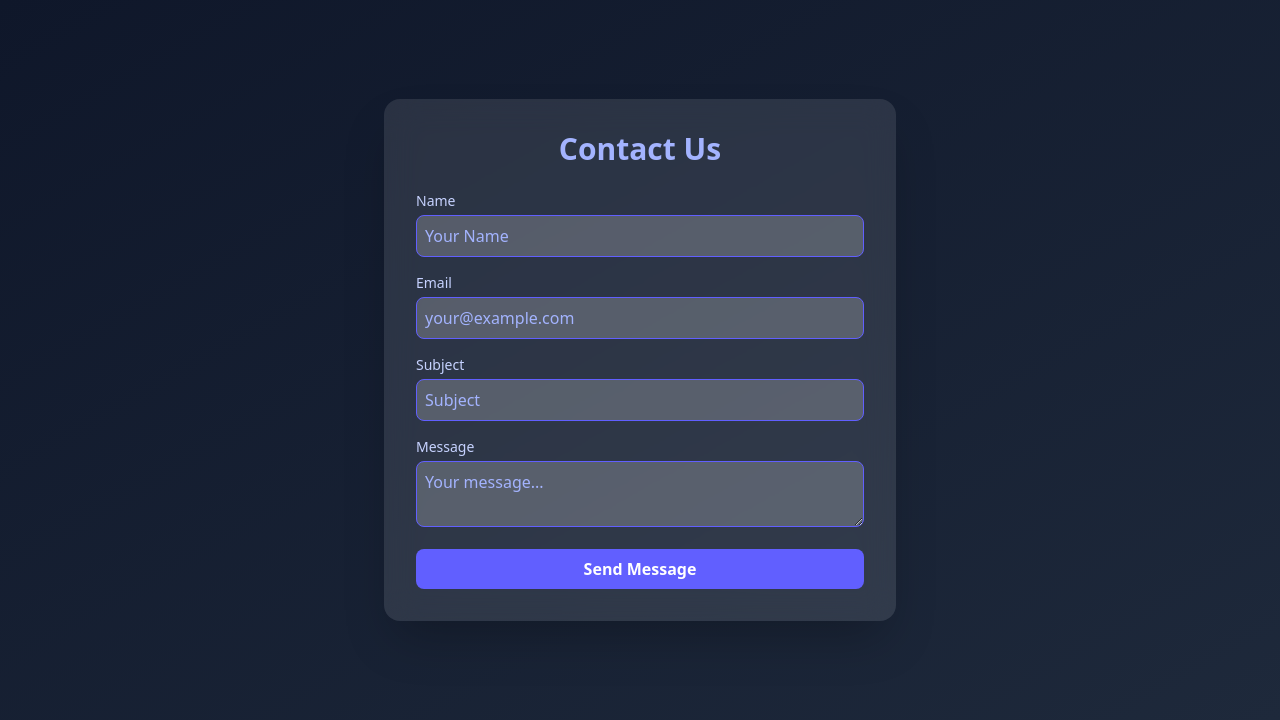
Test: Contact component › shows error message if emailjs.send fails
This screenshot has width=1280, height=720.
Type "John" into the field with placeholder "Your Name" at {"x": 640, "y": 236}, box [416,215,864,257]
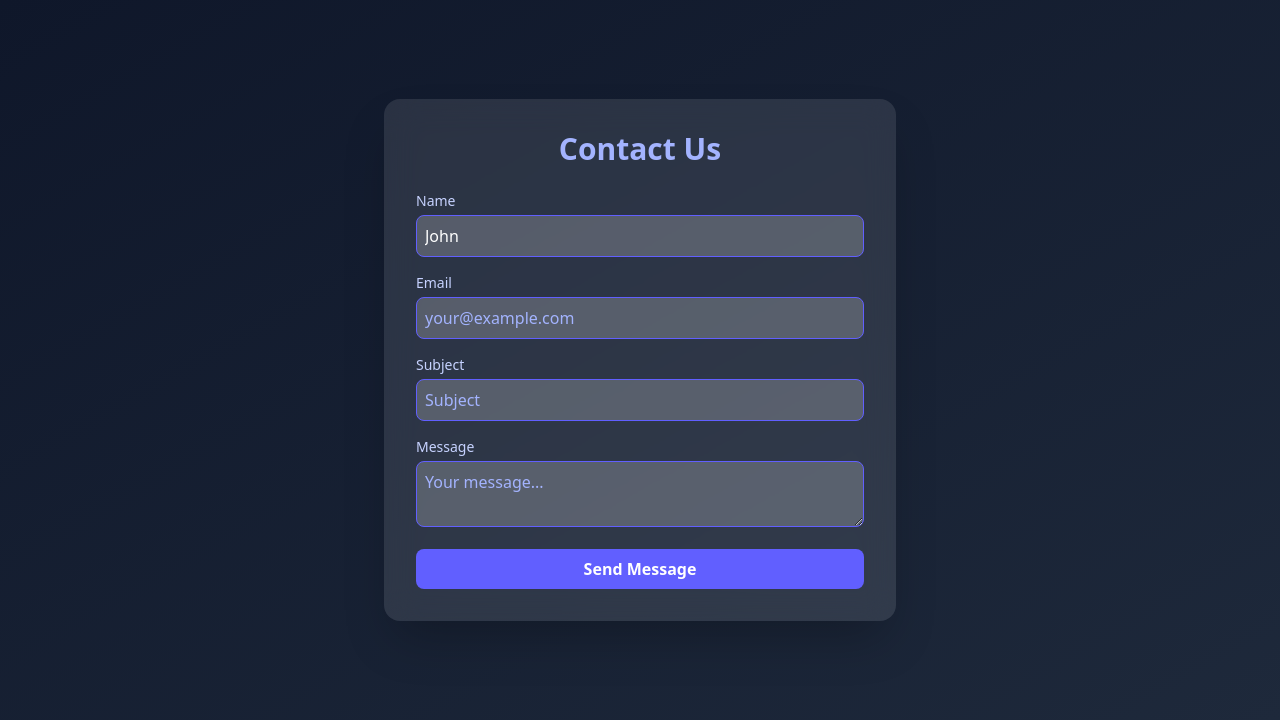
Type "john@example.com" into the field with placeholder "your@example.com" at {"x": 640, "y": 318}, box [416,297,864,339]
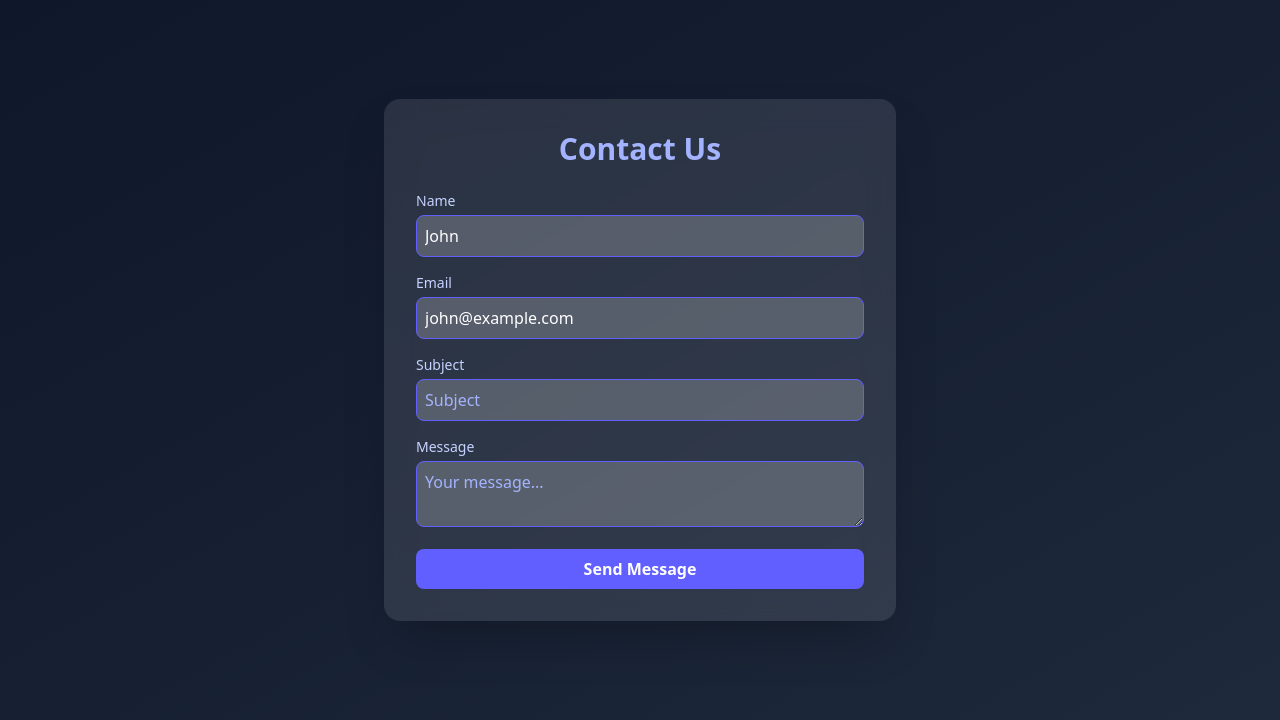
Type "Oops" into the field with placeholder "Subject" at {"x": 640, "y": 400}, box [416,379,864,421]
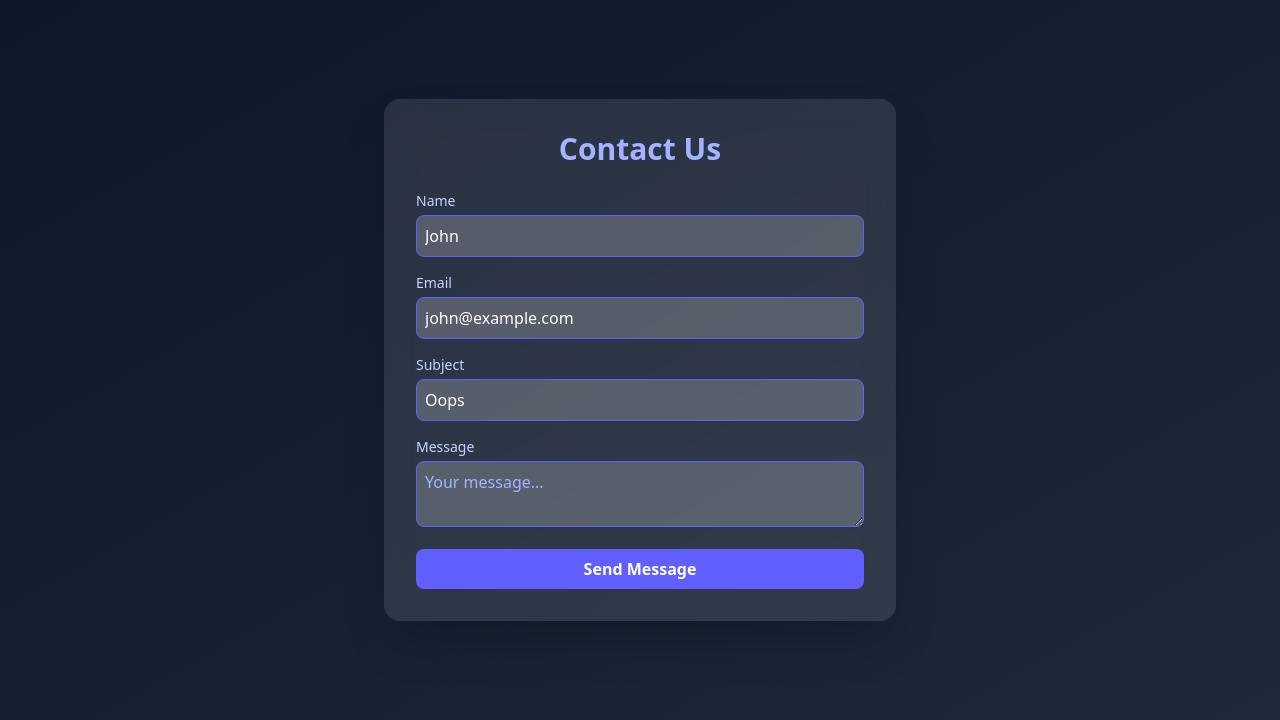
Type "Something went wrong" into the text box with placeholder "Your message..." at {"x": 640, "y": 494}, box [416,461,864,527]
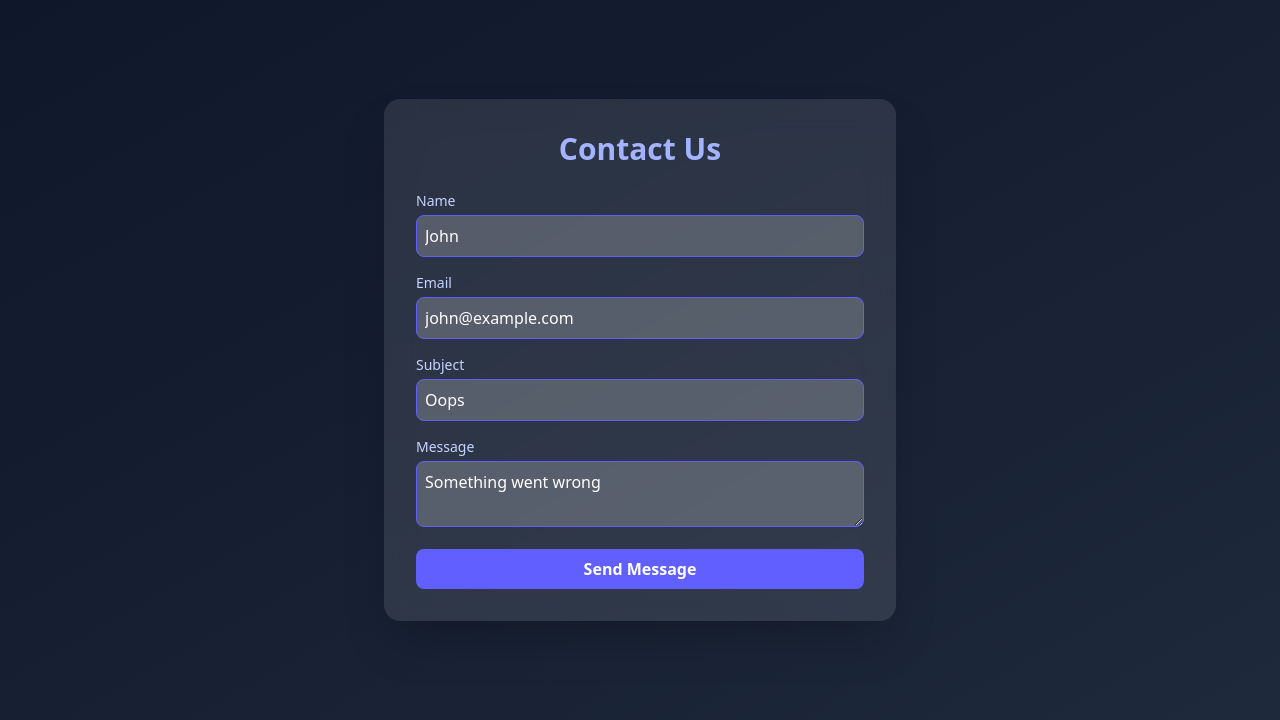
Click the button "Send Message" at {"x": 640, "y": 569}, box [416,549,864,589]
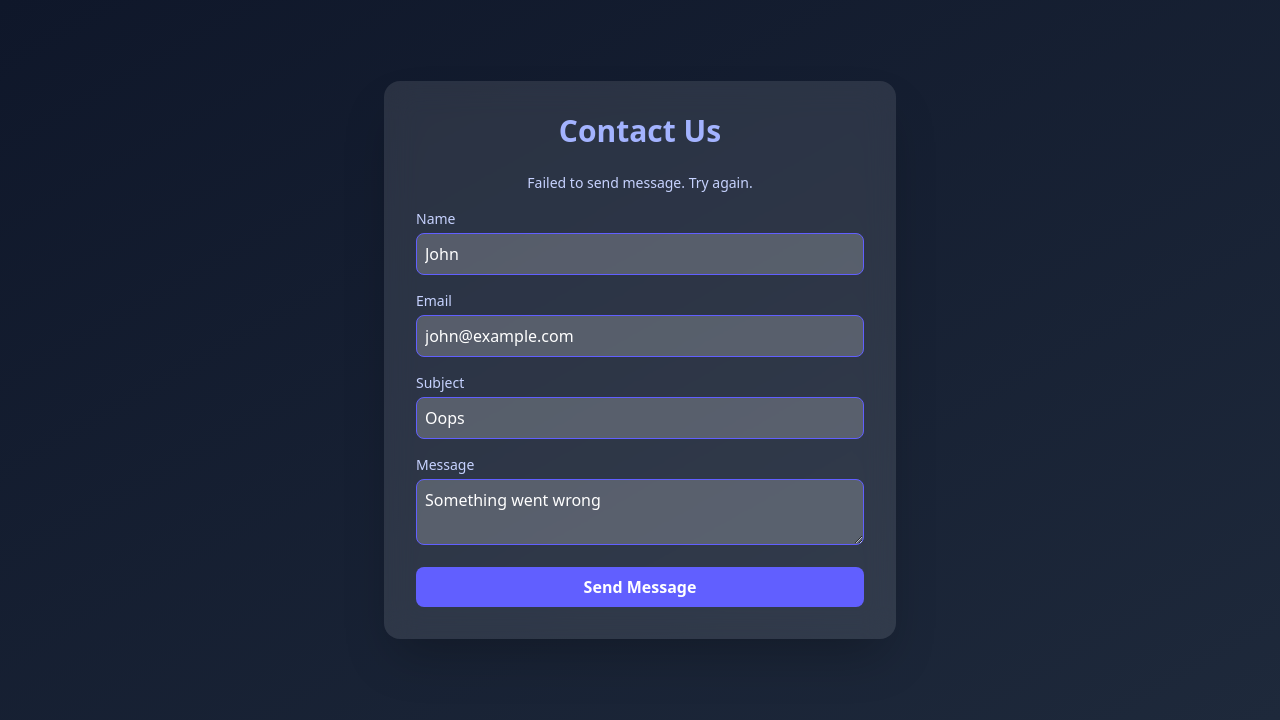
Expected: the text "Failed to send message. Try again." is shown, [527,173,753,192]
